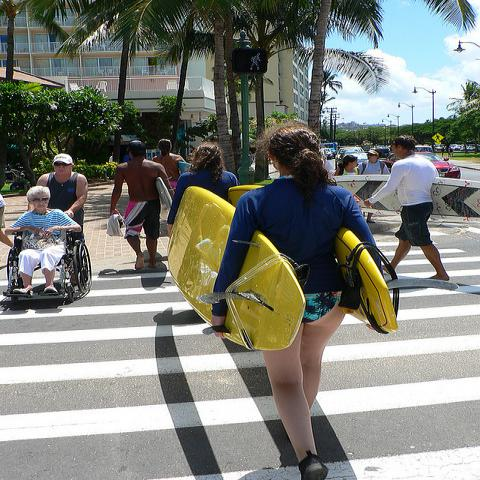car: (415, 151, 461, 178), (335, 147, 365, 161), (350, 152, 368, 162), (374, 147, 390, 158), (414, 145, 432, 152), (453, 145, 467, 150), (466, 146, 475, 150)
